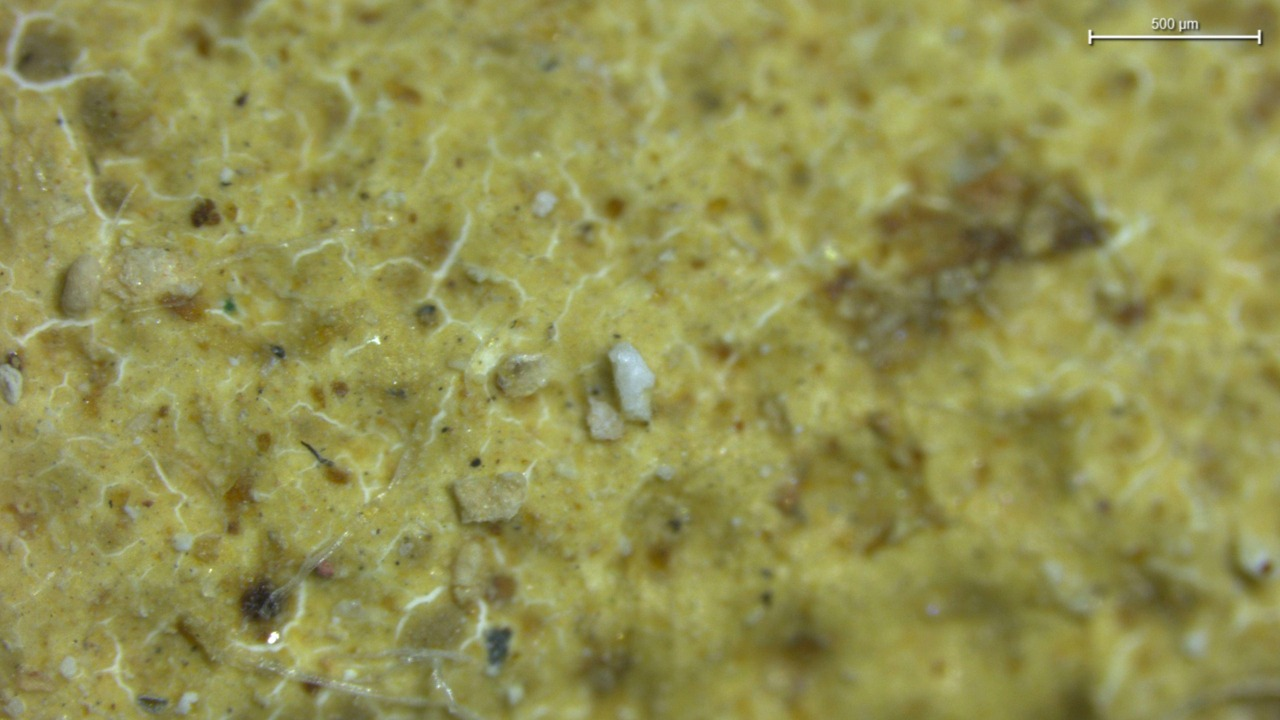microplastic_fragment: (453, 472, 528, 523), (608, 342, 654, 419), (59, 254, 100, 319)
